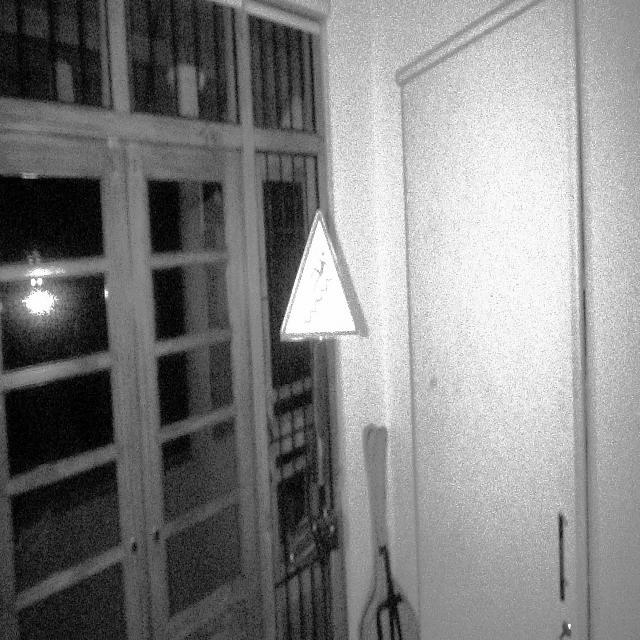Sign: (279, 208, 368, 342)
